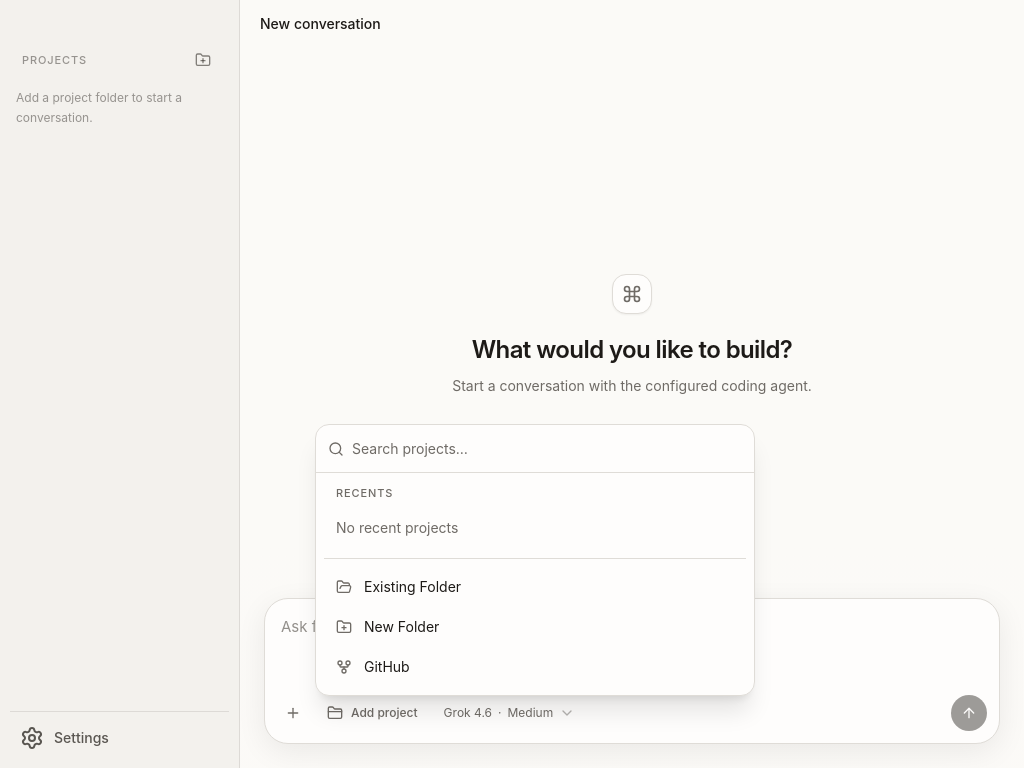
it: App › creates a named project folder from the picker
Click the button "New Folder".
click(402, 626)  # box x1=324 y1=606 x2=746 y2=646
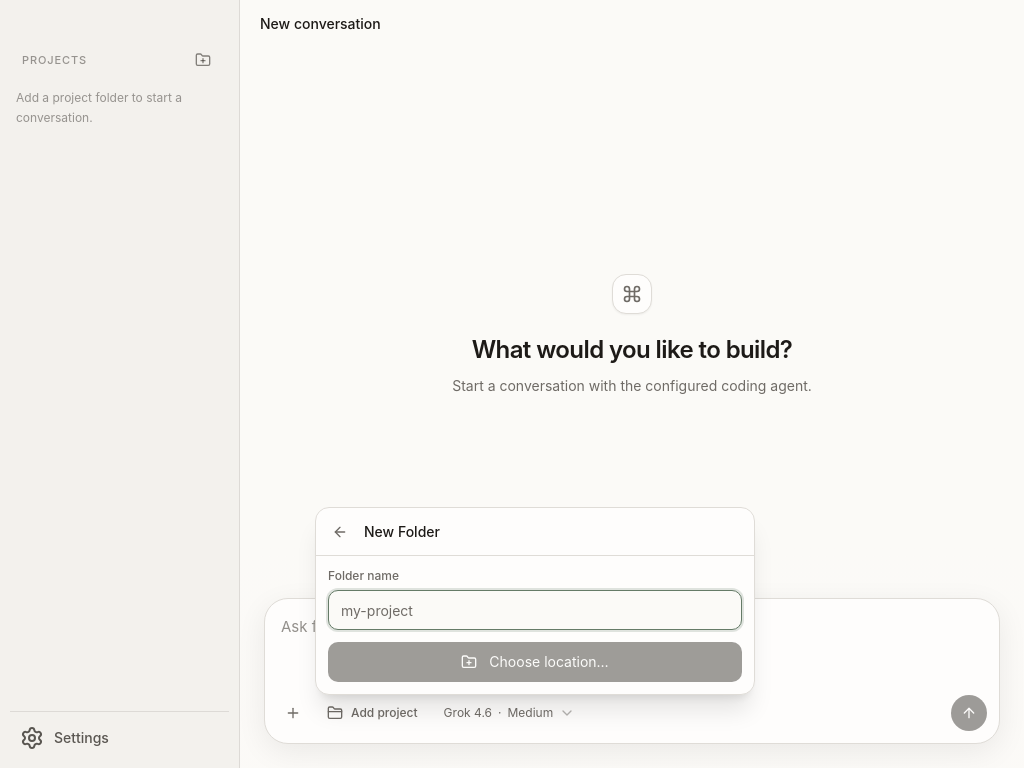
Type "fresh-project" into the field labelled "Folder name".
click(535, 610); type("fresh-project")  # box x1=328 y1=590 x2=742 y2=630
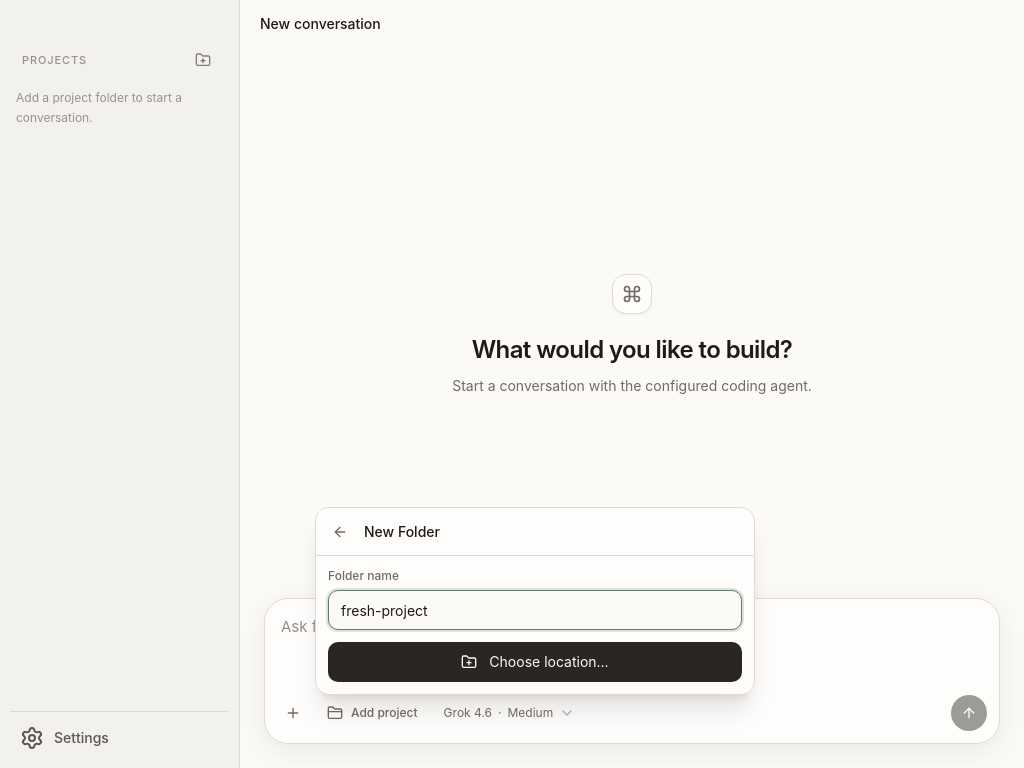
Click the button "Choose location…".
click(535, 662)  # box x1=328 y1=642 x2=742 y2=682
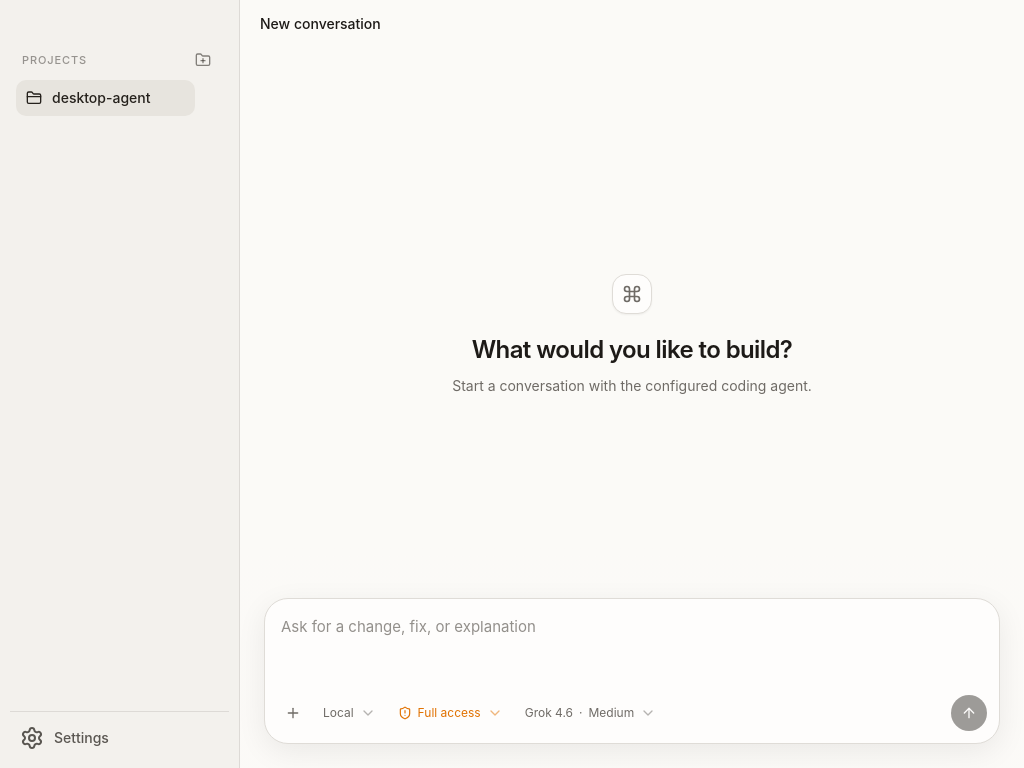
Now the label "Folder name" is gone
